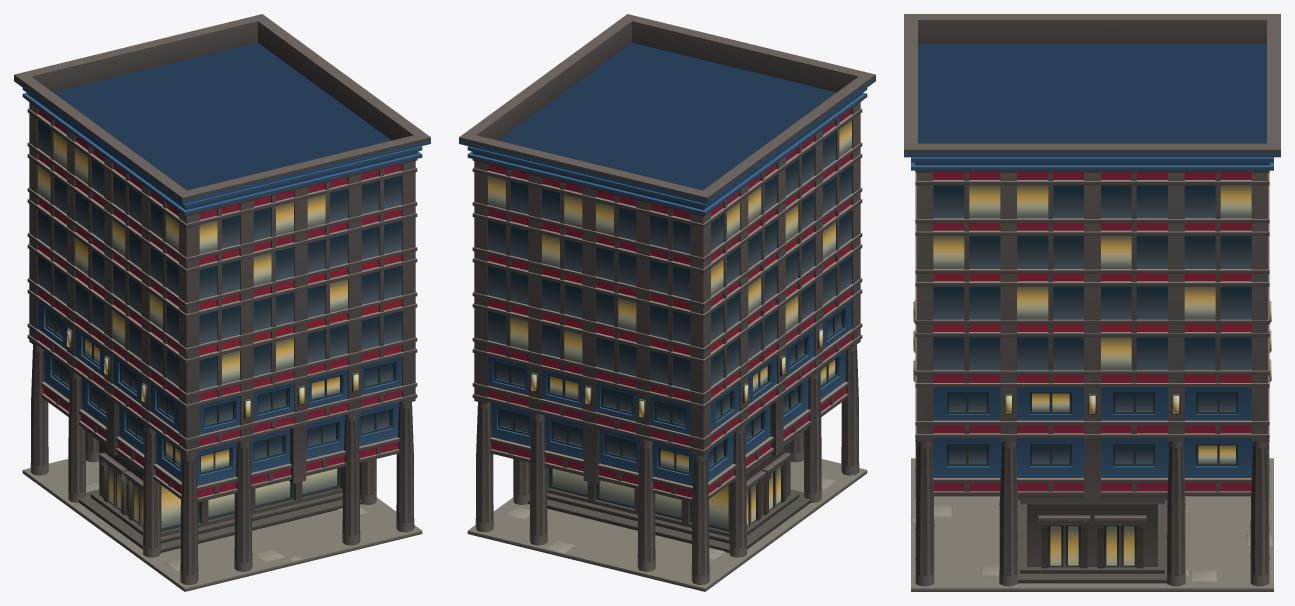
File: Building_13C.fbx
3 views of the same model, side by side, from view 1: azimuth 30°, elevation 25°; view 2: azimuth 150°, elevation 25°; view 3: azimuth 270°, elevation 25° (orthographic). The views are drawn at different scales.
Parts seen in each view (by area): view 1: Building_13C, Window_Lights_13C; view 2: Building_13C, Window_Lights_13C; view 3: Building_13C, Window_Lights_13C.
Boxes of the visible parts, box(x1,y1,x2,y2) form: Building_13C: box(14, 14, 430, 591); Window_Lights_13C: box(38, 132, 347, 528); Building_13C: box(459, 14, 875, 591); Window_Lights_13C: box(488, 120, 851, 528); Building_13C: box(904, 14, 1280, 591); Window_Lights_13C: box(933, 185, 1251, 565).
Size of the model in its own units: 2300 by 3520 by 2700.
